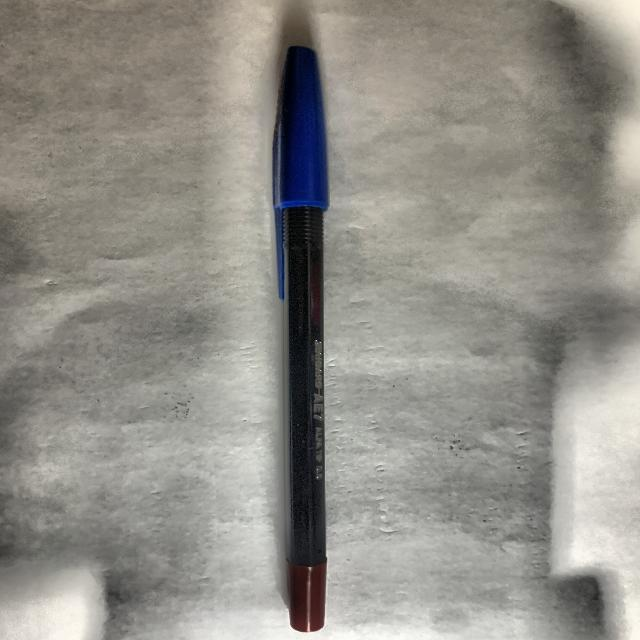Pulpen: (250, 28, 366, 638)
